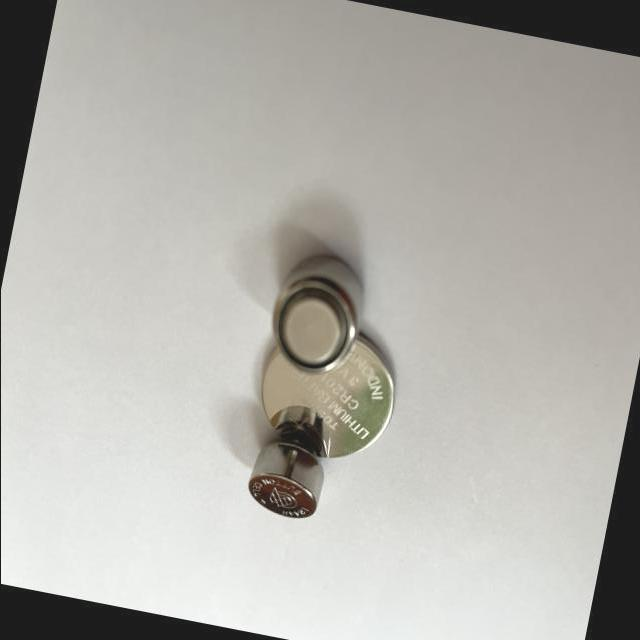COIN: (248, 315, 404, 470), (261, 247, 372, 380), (244, 436, 328, 520)
